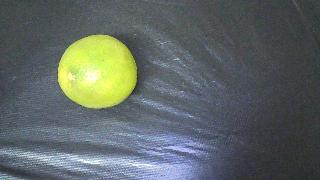LOCAL: (58, 35, 137, 109)
